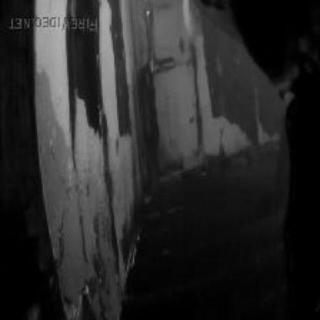other: (146, 56, 162, 77)
